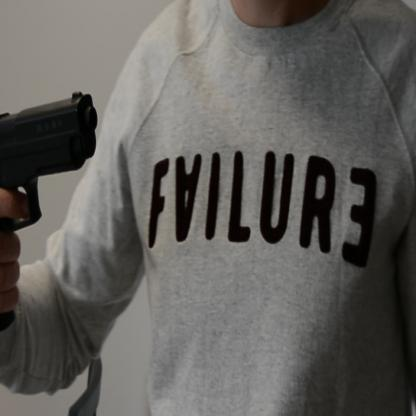gun: (0, 86, 99, 336)
